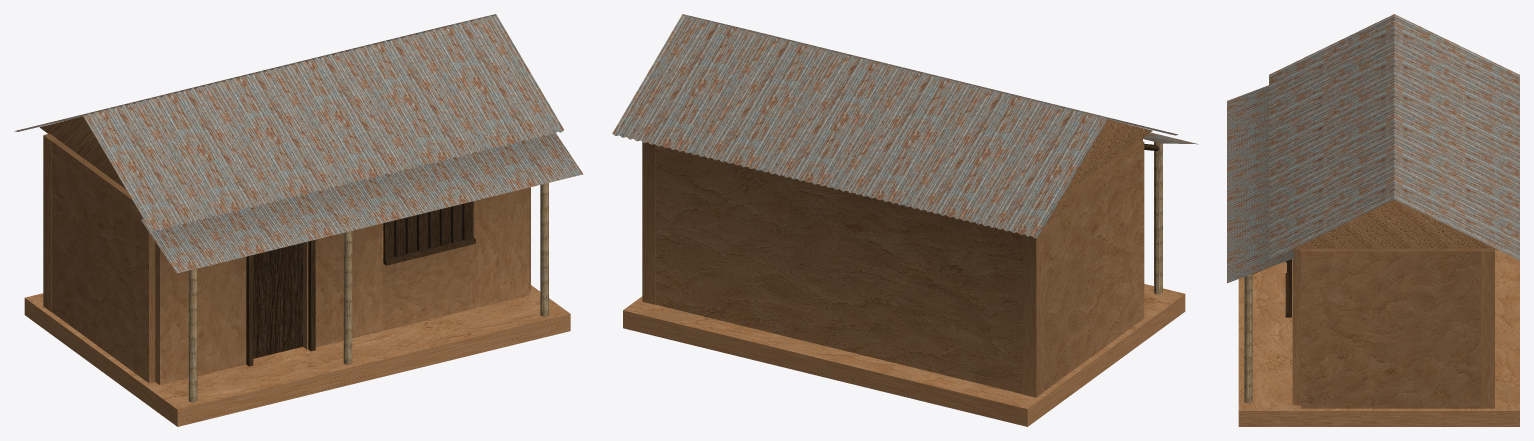
Rendered from prop_house.glb.
3 renders of one model, left to right at view 1: azimuth 30°, elevation 25°; view 2: azimuth 150°, elevation 25°; view 3: azimuth 270°, elevation 25°, orthographic. The views are drawn at different scales.
Visible parts, largest first — view 1: prop_house; view 2: prop_house; view 3: prop_house.
Boxes of the visible parts, bbox=[...] form: prop_house: bbox=[14, 14, 583, 426]; prop_house: bbox=[612, 14, 1198, 426]; prop_house: bbox=[1227, 14, 1519, 426].
Bounding box in the file's own units: 6 × 3.5 × 4.
4 materials, 4 textured.
